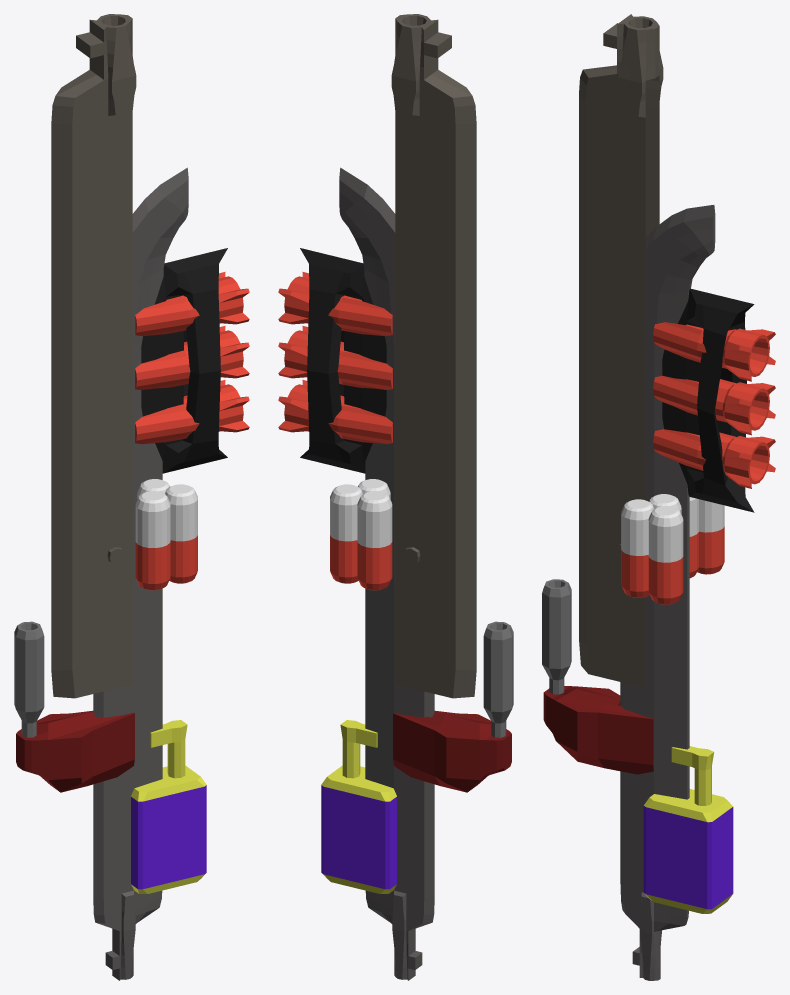
File: HeliWingWithAcc.fbx
The picture shows the model from 3 angles, left to right: view 1: azimuth 30°, elevation 25°; view 2: azimuth 150°, elevation 25°; view 3: azimuth 330°, elevation 25°; orthographic projection.
Visible parts, largest first — view 1: Acc_AttackRange, Katana, Acc_Torch, Acc_RocketBase, Acc_Battery, Acc_KatanaBomb, Rocket_1, Rocket_3, Rocket_2; view 2: Acc_AttackRange, Katana, Acc_Torch, Acc_RocketBase, Acc_Battery, Acc_KatanaBomb, Rocket_1, Rocket_3, Rocket_2; view 3: Acc_AttackRange, Katana, Acc_Battery, Acc_Torch, Acc_RocketBase, Acc_KatanaBomb, Rocket_2, Rocket_3, Rocket_1.
Part boxes in pixels (left/top/right/bottom): Acc_AttackRange: left=51, top=14, right=136, bottom=698; Katana: left=93, top=167, right=188, bottom=980; Acc_Torch: left=14, top=621, right=134, bottom=792; Acc_RocketBase: left=141, top=248, right=227, bottom=473; Acc_Battery: left=131, top=720, right=206, bottom=893; Acc_KatanaBomb: left=135, top=479, right=197, bottom=590; Rocket_1: left=135, top=271, right=249, bottom=336; Rocket_3: left=135, top=379, right=249, bottom=444; Rocket_2: left=135, top=325, right=249, bottom=389; Acc_AttackRange: left=391, top=14, right=476, bottom=698; Katana: left=339, top=167, right=434, bottom=980; Acc_Torch: left=393, top=621, right=513, bottom=792; Acc_RocketBase: left=300, top=248, right=386, bottom=473; Acc_Battery: left=321, top=720, right=396, bottom=893; Acc_KatanaBomb: left=330, top=479, right=392, bottom=590; Rocket_1: left=278, top=271, right=392, bottom=336; Rocket_3: left=278, top=379, right=392, bottom=444; Rocket_2: left=278, top=325, right=392, bottom=389; Acc_AttackRange: left=579, top=14, right=663, bottom=687; Katana: left=620, top=205, right=715, bottom=980; Acc_Battery: left=643, top=746, right=733, bottom=913; Acc_Torch: left=542, top=579, right=653, bottom=774; Acc_RocketBase: left=662, top=288, right=754, bottom=512; Acc_KatanaBomb: left=621, top=494, right=724, bottom=604; Rocket_2: left=653, top=375, right=775, bottom=435; Rocket_3: left=653, top=429, right=775, bottom=488; Rocket_1: left=653, top=322, right=775, bottom=381.
Bounding box in the file's own units: 643 × 2662 × 298.
